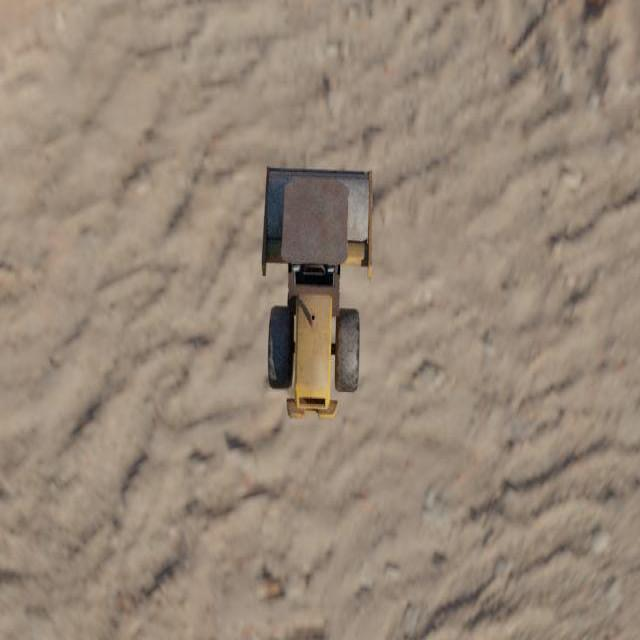Roller: (260, 165, 372, 420)
